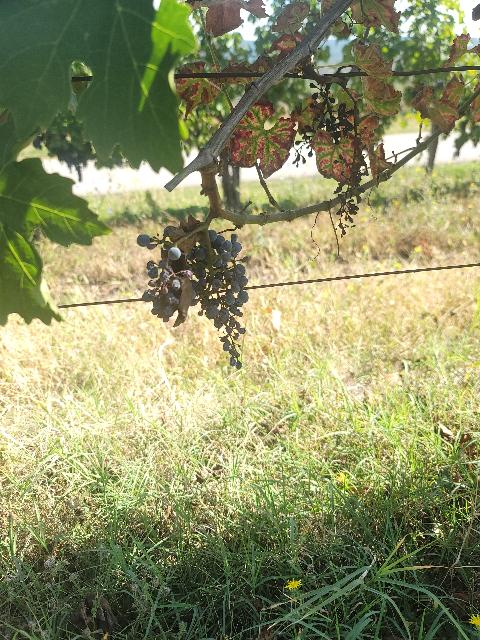grapes: (138, 226, 249, 369)
